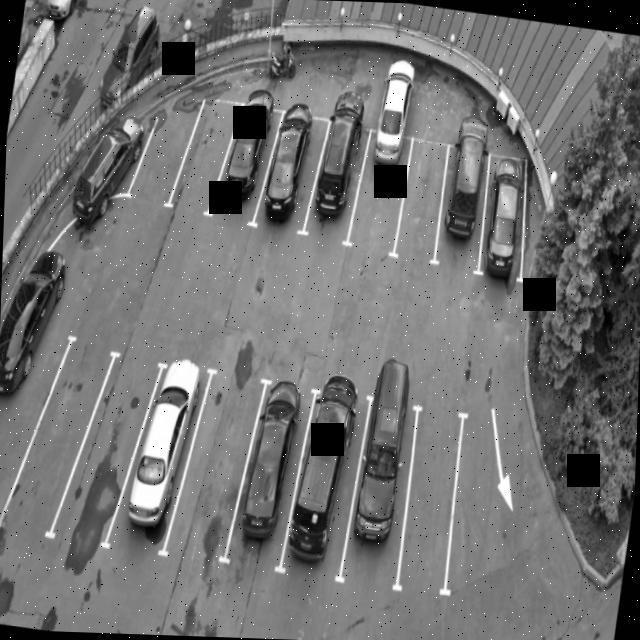car: (105, 362, 198, 555), (282, 378, 366, 581), (340, 395, 420, 587), (230, 371, 302, 563), (204, 90, 284, 238), (252, 110, 326, 241), (468, 146, 536, 288), (431, 133, 491, 281), (303, 118, 371, 240), (348, 124, 408, 248)
free: (48, 354, 160, 554), (4, 340, 108, 538), (165, 362, 252, 556), (390, 400, 472, 598), (127, 73, 202, 218), (166, 91, 242, 222), (392, 138, 448, 262)
